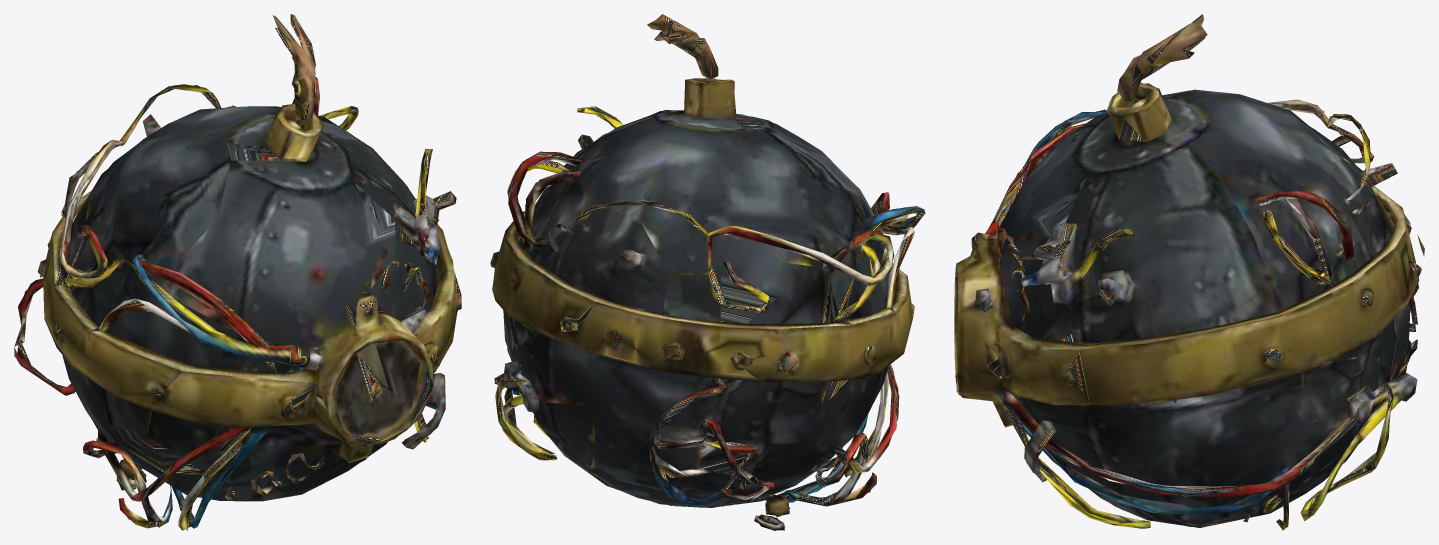
The model's file is bomb-lite.glb.
3 views of the same model, side by side, from view 1: azimuth 30°, elevation 25°; view 2: azimuth 150°, elevation 25°; view 3: azimuth 270°, elevation 25° (orthographic). The views are drawn at different scales.
Visible parts, largest first — view 1: geometry_0; view 2: geometry_0; view 3: geometry_0.
Part boxes in pixels (<box>): geometry_0: <box>14,14,461,530</box>; geometry_0: <box>490,14,925,530</box>; geometry_0: <box>954,14,1424,530</box>.
Bounding box in the file's own units: 0.7485 × 0.9137 × 0.7709.
Materials: 1 (1 with a texture image).
